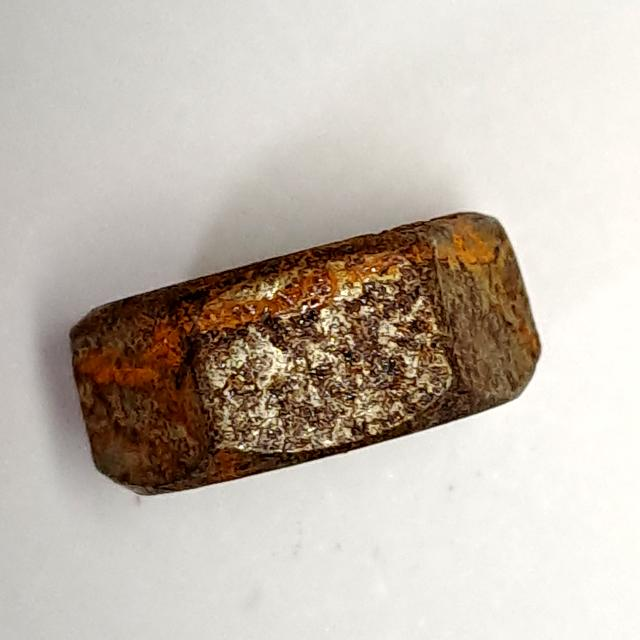Side_Rust: (55, 194, 553, 519)
